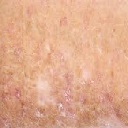Actinic: (56, 84, 128, 124), (1, 89, 23, 122)
